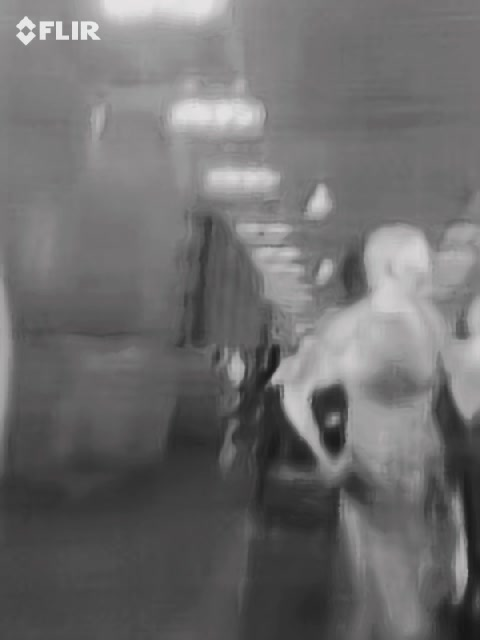head: (362, 221, 433, 304)
